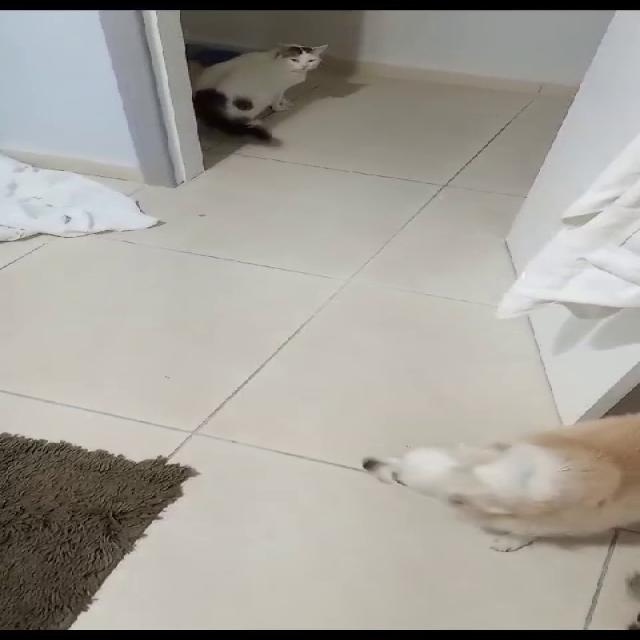Simba: (336, 406, 638, 582), (198, 27, 354, 164)
Theo: (336, 406, 638, 582)
